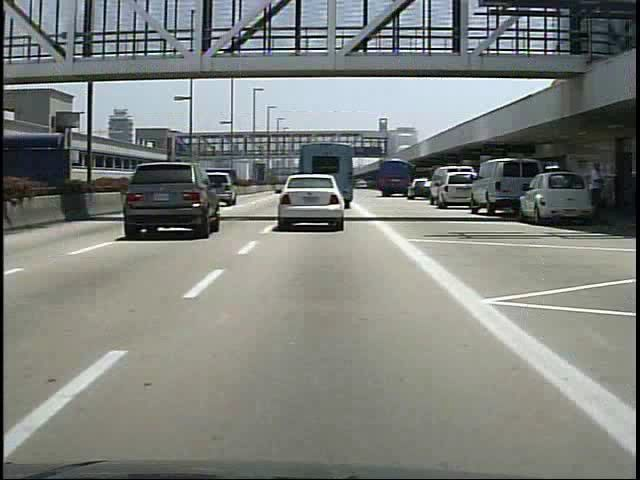person: (590, 154, 617, 230)
